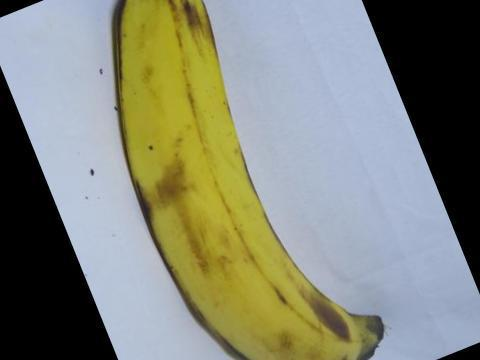ripe: (93, 0, 407, 359)
